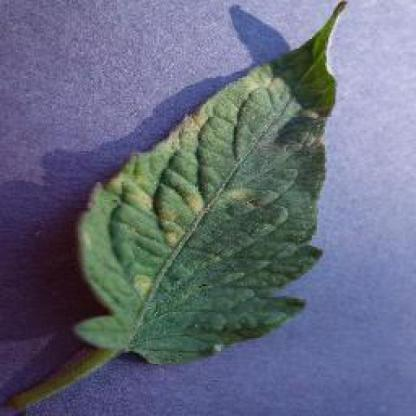Tomato_Leaf_Mold: (74, 4, 352, 360)
